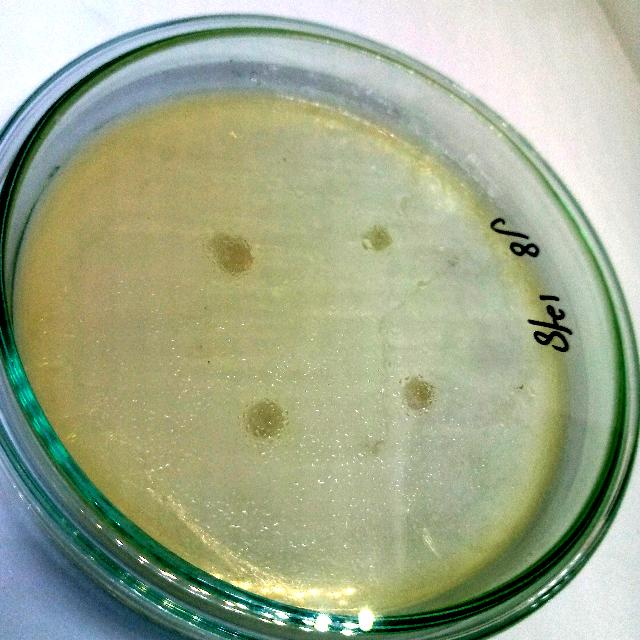colony: (203, 229, 260, 281), (242, 394, 288, 446), (394, 368, 438, 416), (358, 218, 396, 260)
